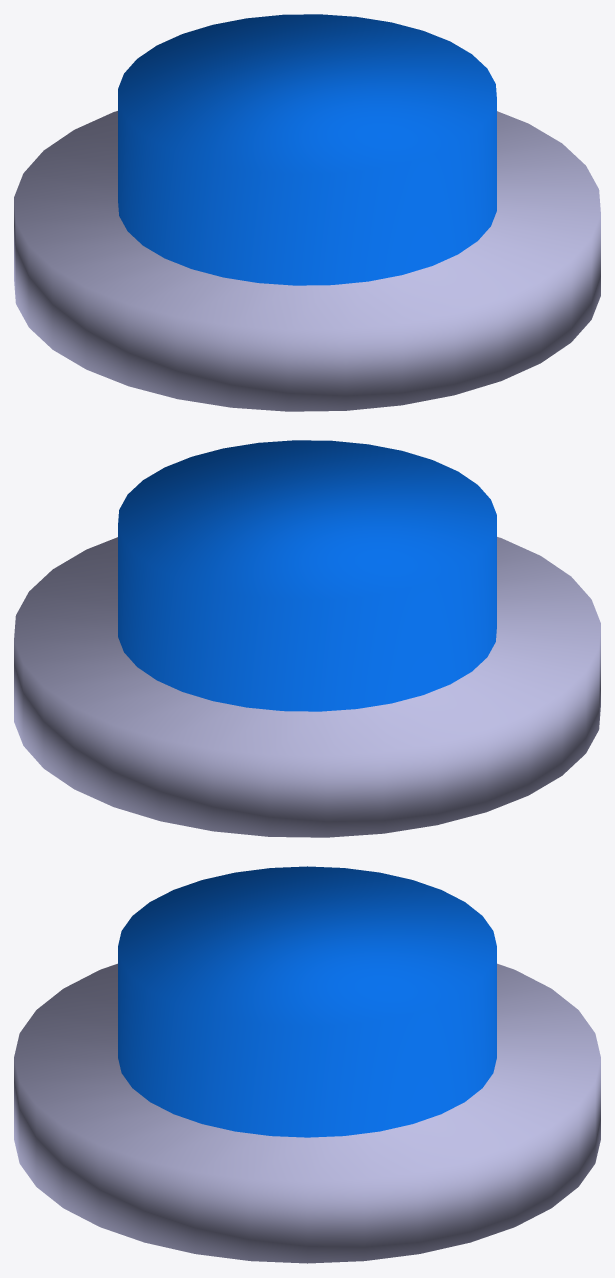
File: button.fbx
The picture shows the model from 3 angles, top to bottom: view 1: azimuth 30°, elevation 25°; view 2: azimuth 150°, elevation 25°; view 3: azimuth 270°, elevation 25°; orthographic projection.
Visible parts, largest first — view 1: Circle; view 2: Circle; view 3: Circle.
Boxes of the visible parts, <box> form: Circle: <box>14,14,600,411</box>; Circle: <box>14,440,600,837</box>; Circle: <box>14,866,600,1263</box>.
Size of the model in its own units: 67.71 by 24.55 by 67.71.
